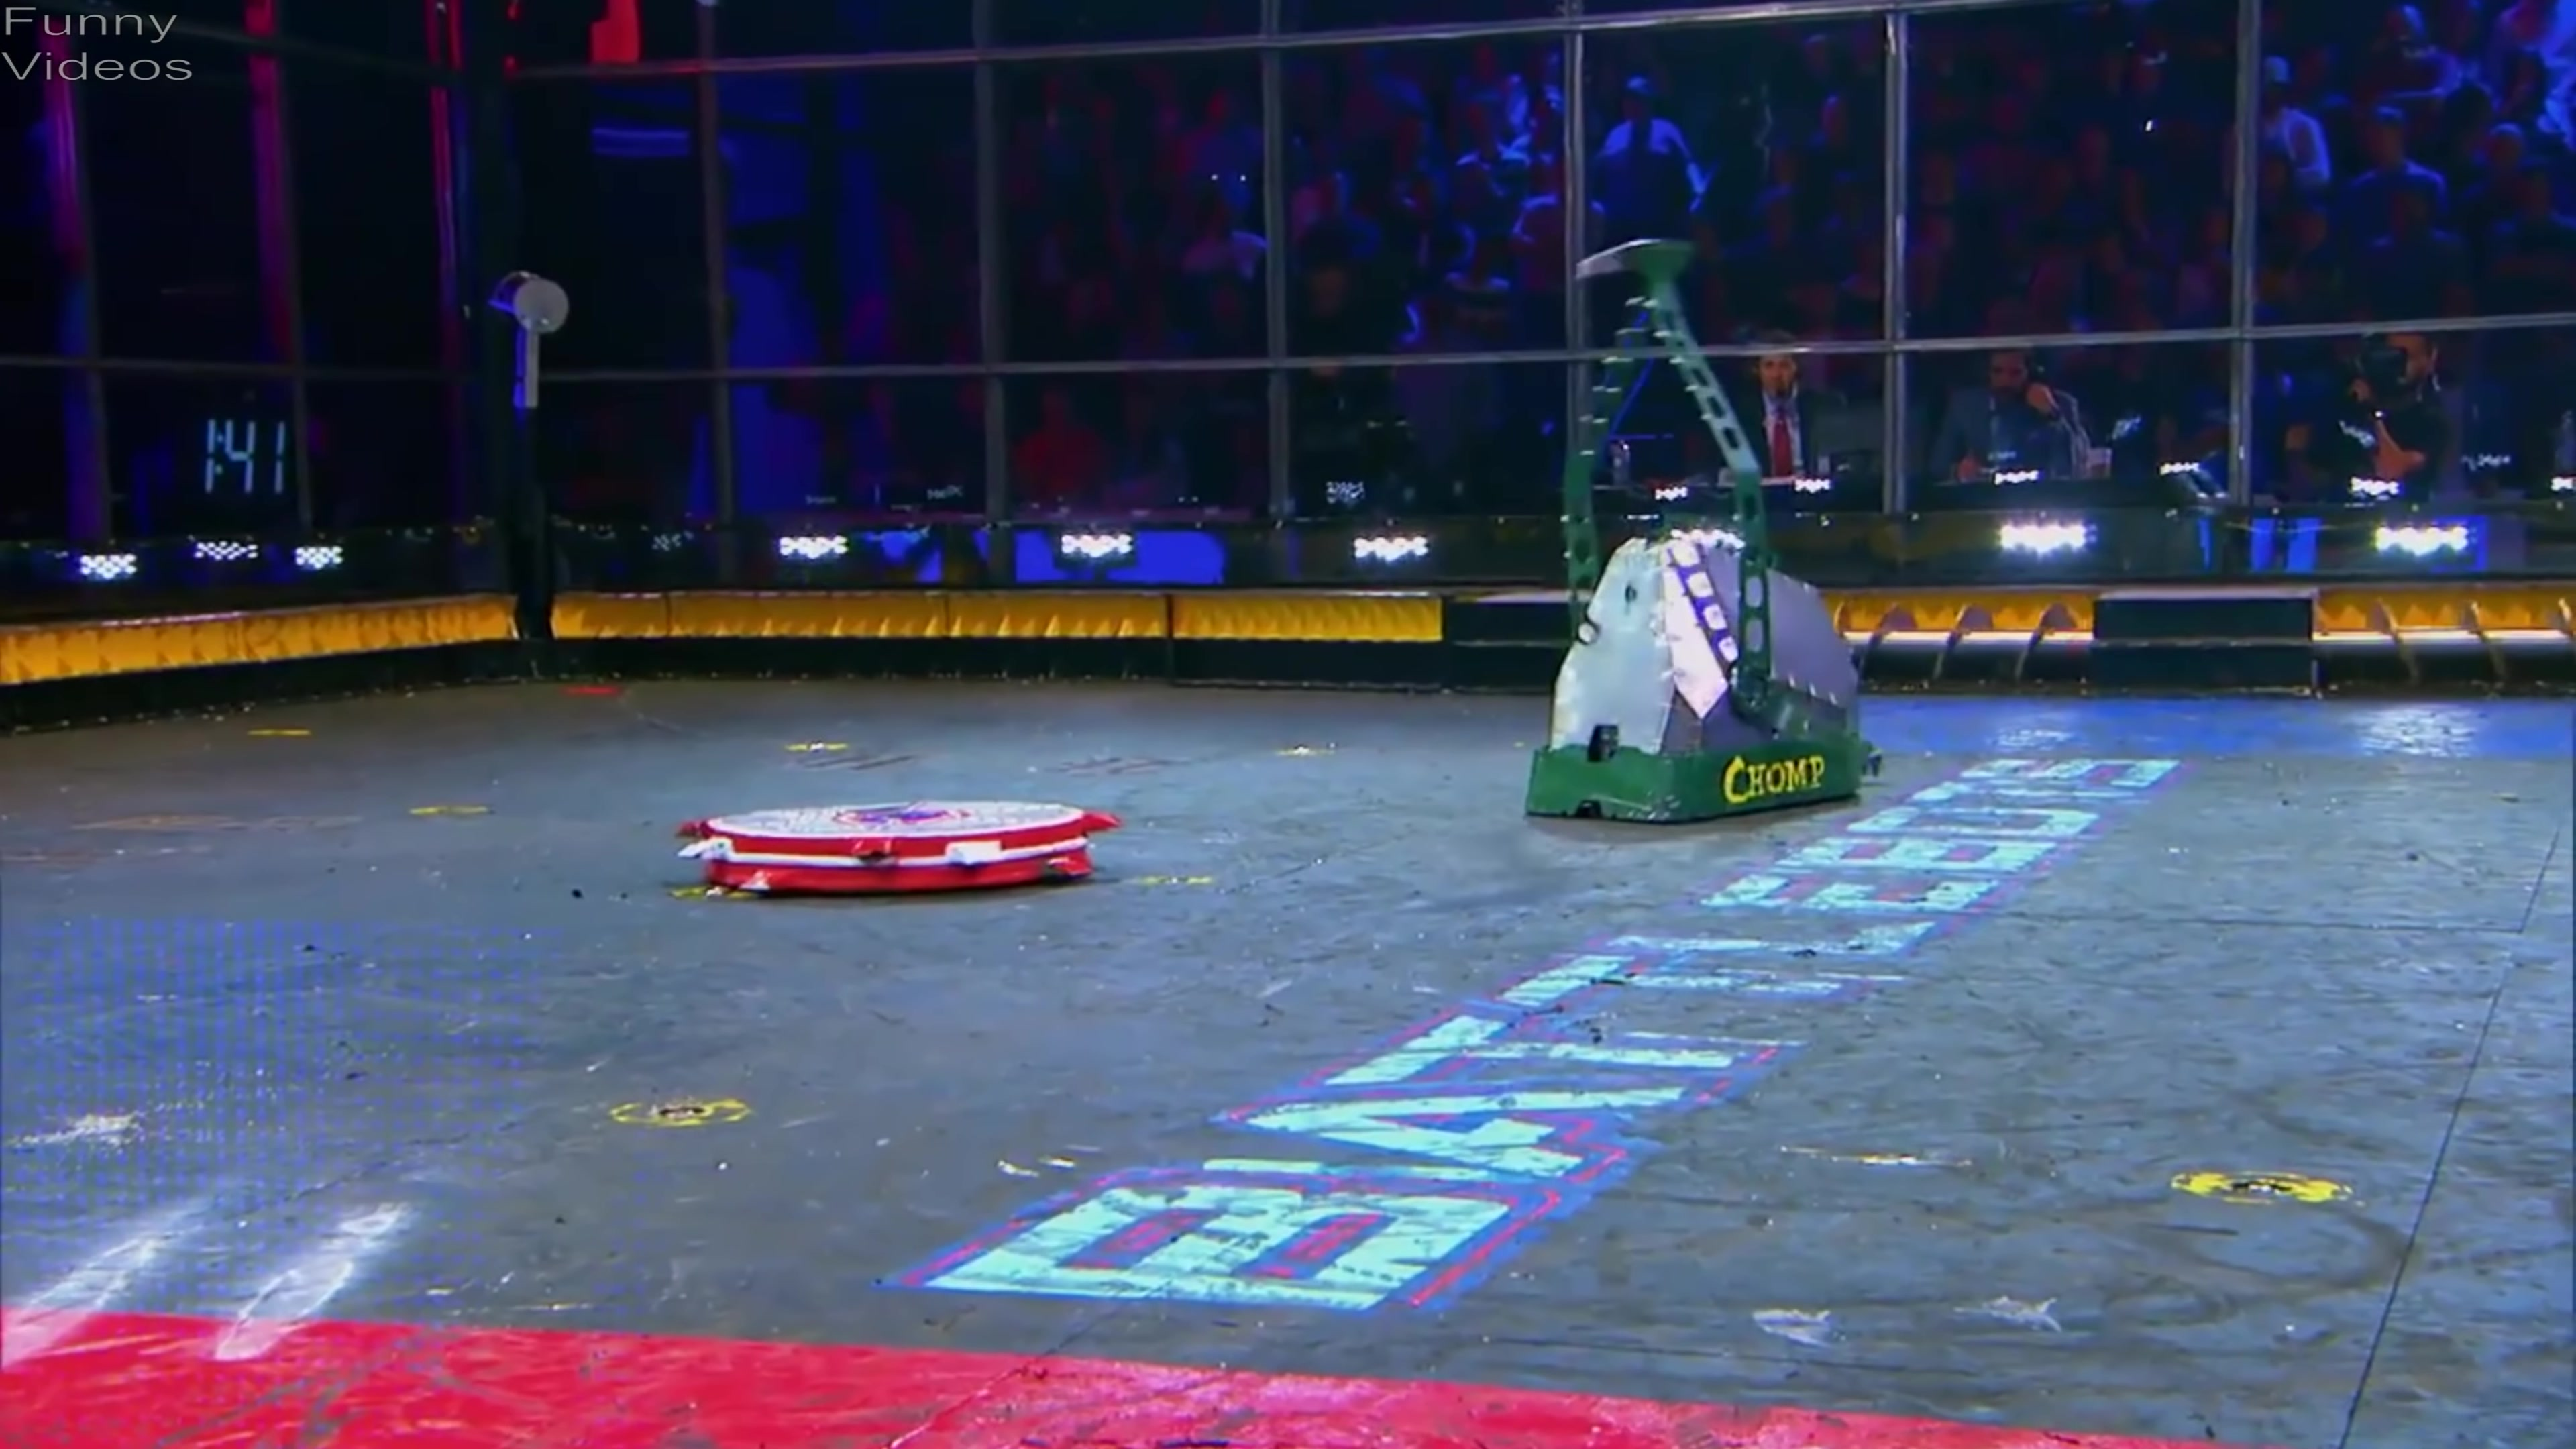combatbot: (1525, 242, 1886, 819), (672, 798, 1125, 886)
